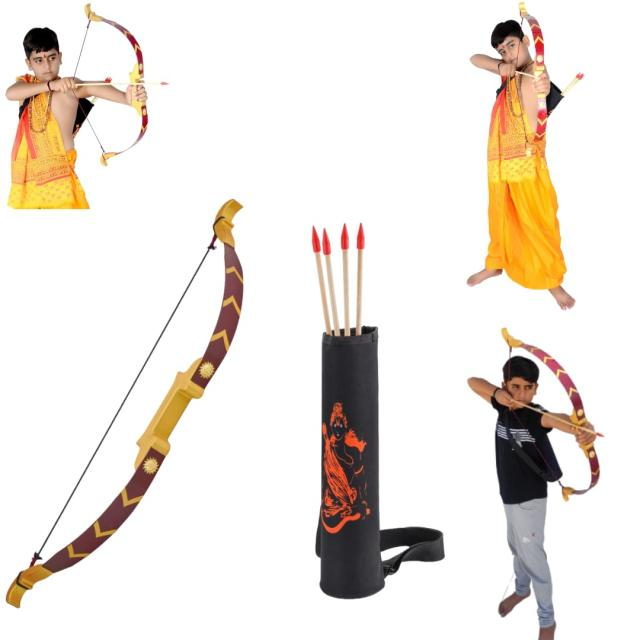X-Bow: (1, 194, 248, 618)
